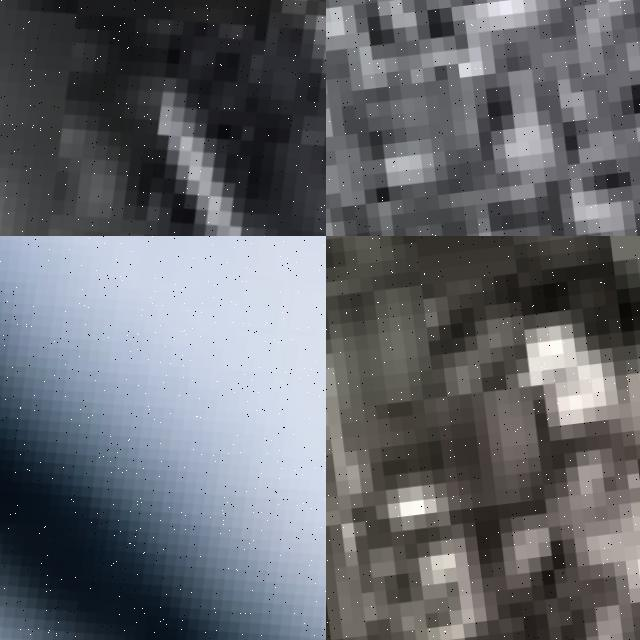0: (0, 0, 326, 236)
drone: (0, 236, 326, 640)
